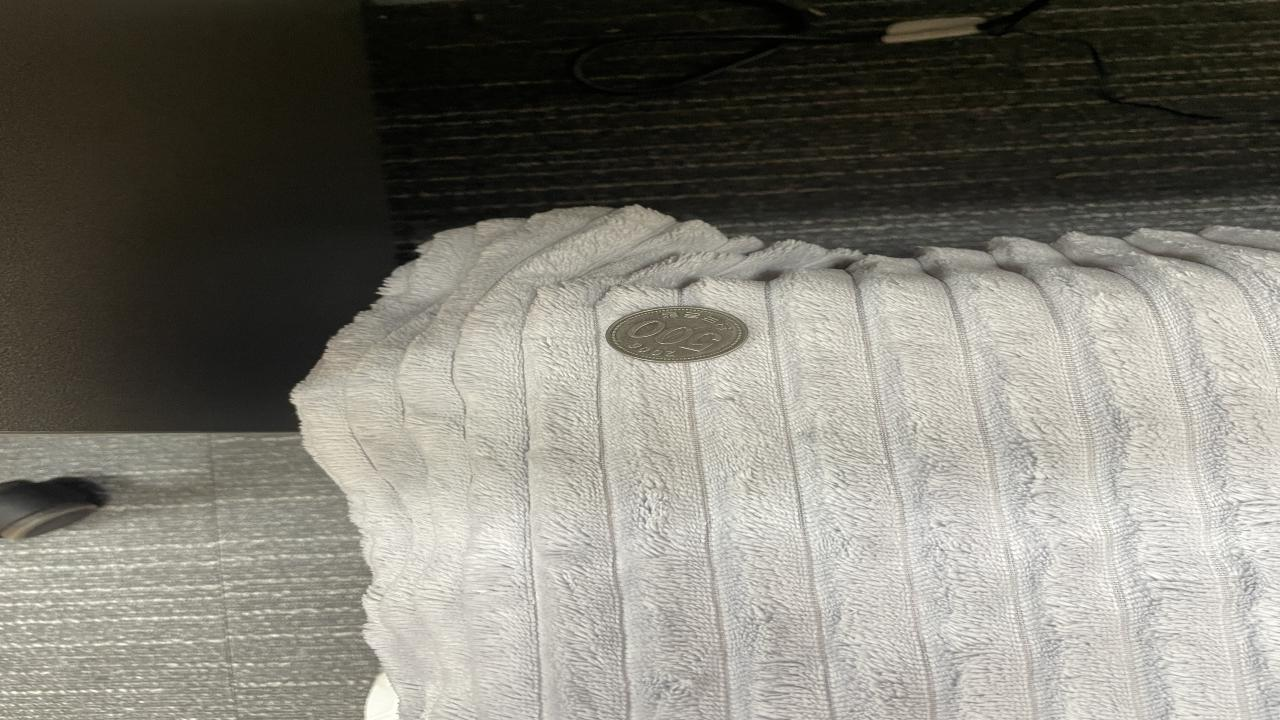coin: (606, 306, 751, 364)
